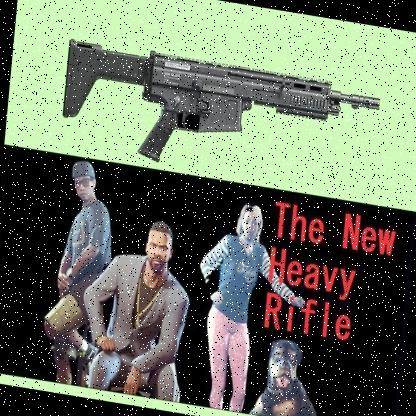rifle: (53, 29, 386, 195)
